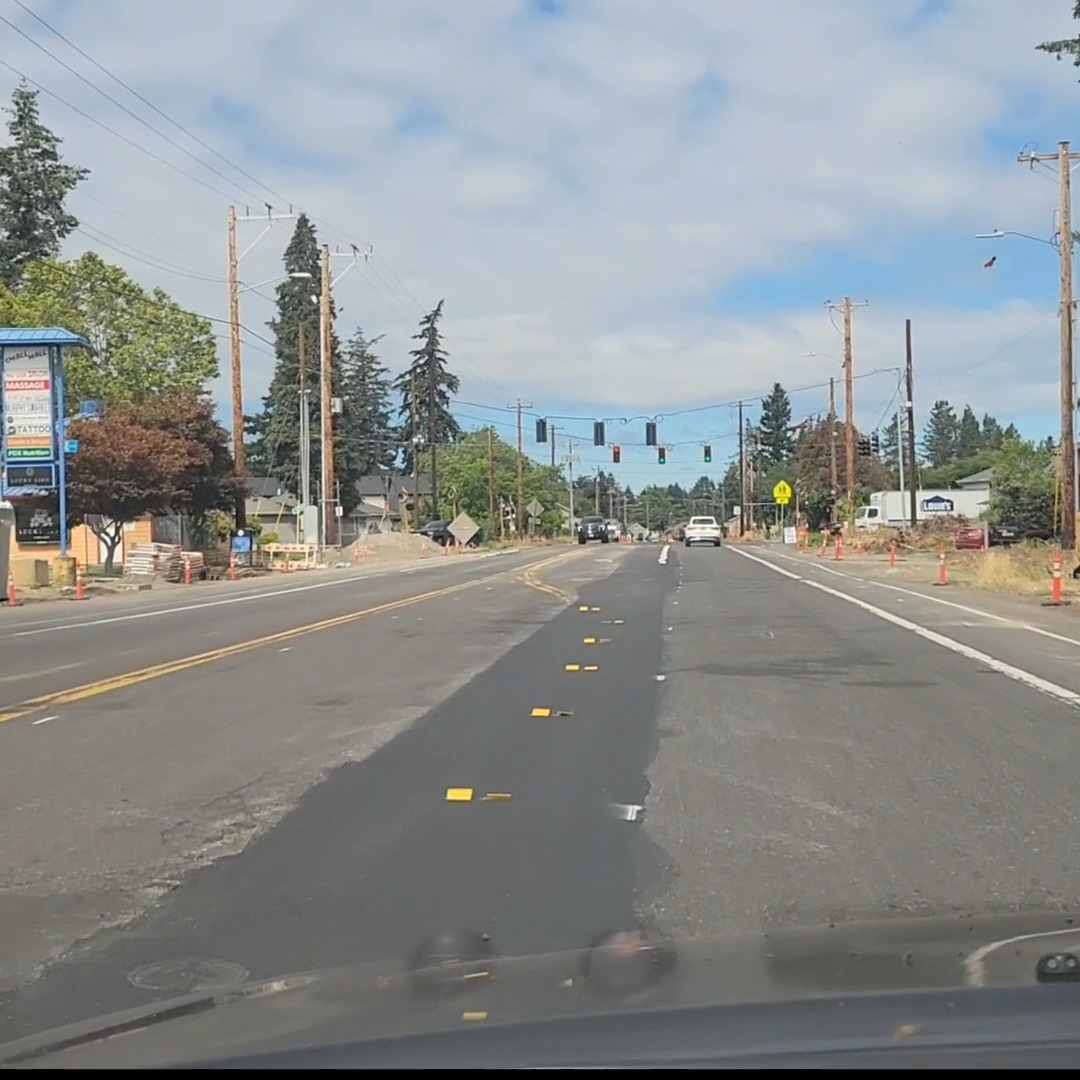car: (414, 518, 484, 546), (682, 516, 722, 547), (577, 516, 619, 543)
crosswalk-sign: (773, 479, 791, 503)
delineator: (1044, 553, 1067, 604), (933, 545, 949, 585), (6, 568, 22, 607), (74, 560, 85, 599), (833, 529, 842, 559), (819, 530, 828, 557), (228, 553, 237, 579), (183, 555, 191, 583), (888, 539, 896, 566), (419, 538, 430, 557), (352, 541, 361, 563), (853, 532, 861, 554), (801, 528, 809, 550), (443, 537, 449, 554)
